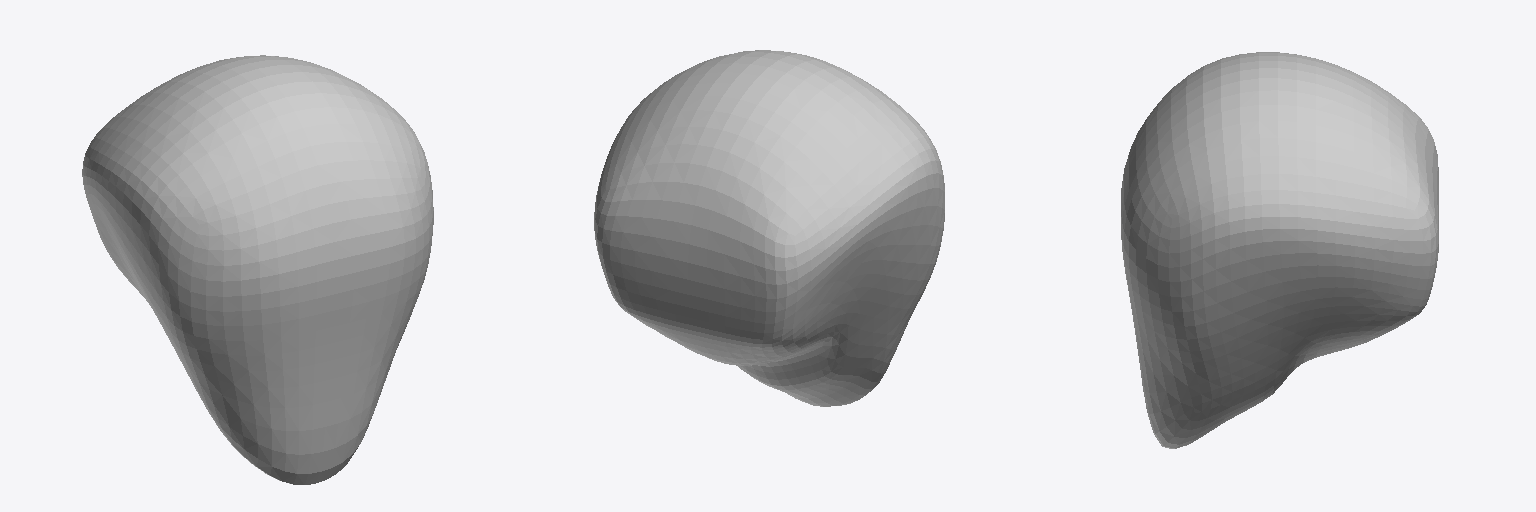
File: f_head.obj
The picture shows the model from 3 angles: view 1: azimuth 30°, elevation 25°; view 2: azimuth 150°, elevation 25°; view 3: azimuth 270°, elevation 25°; orthographic projection.
Parts seen in each view (by area): view 1: pCube4; view 2: pCube4; view 3: pCube4.
Part boxes in pixels (x1,y1,x2,y2): pCube4: (82,55,433,484); pCube4: (594,50,944,406); pCube4: (1121,52,1438,448).
Size of the model in its own units: 0.9909 by 1.26 by 0.9661.